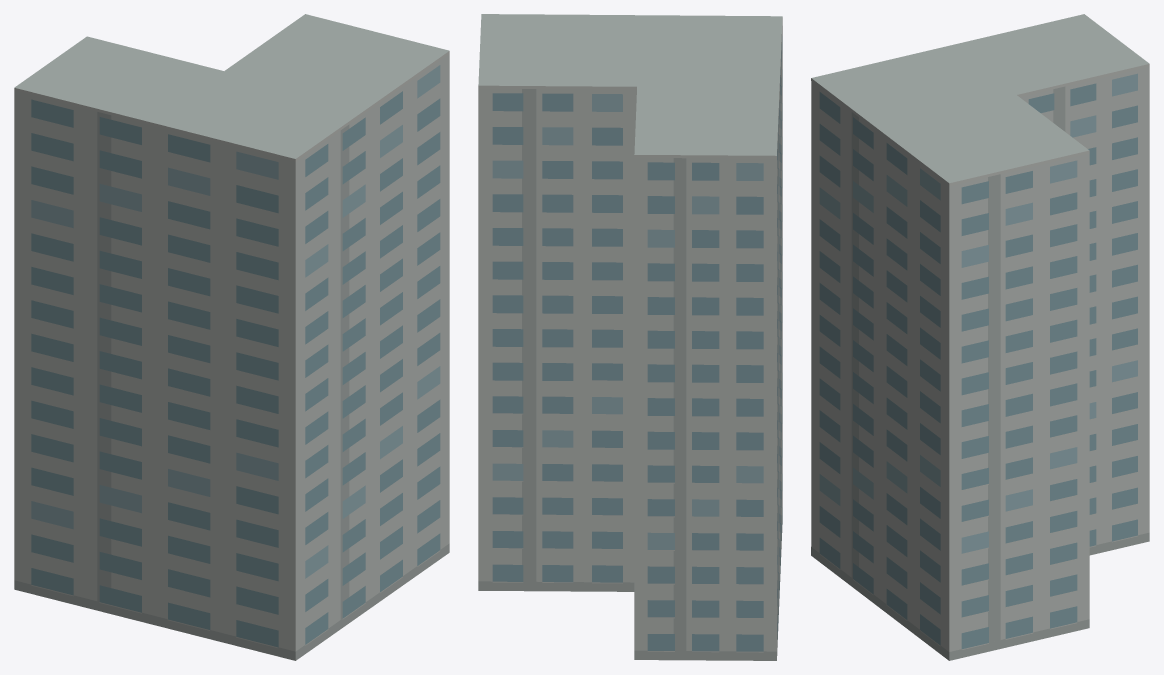
The model's file is residential-6671461a-0dad-41ca-b61d-c05e556253f8.glb.
3 views of the same model, side by side, from view 1: azimuth 30°, elevation 25°; view 2: azimuth 150°, elevation 25°; view 3: azimuth 270°, elevation 25° (orthographic). The views are drawn at different scales.
Parts seen in each view (by area): view 1: residential-6671461a-0dad-41ca-b61d-c05e556253f8.tmp; view 2: residential-6671461a-0dad-41ca-b61d-c05e556253f8.tmp; view 3: residential-6671461a-0dad-41ca-b61d-c05e556253f8.tmp.
Part boxes in pixels (x1=…): residential-6671461a-0dad-41ca-b61d-c05e556253f8.tmp: x1=14, y1=14, x2=449, y2=660; residential-6671461a-0dad-41ca-b61d-c05e556253f8.tmp: x1=478, y1=14, x2=782, y2=660; residential-6671461a-0dad-41ca-b61d-c05e556253f8.tmp: x1=811, y1=14, x2=1149, y2=660.
Bounding box in the file's own units: 31.18 × 41 × 26.35.
